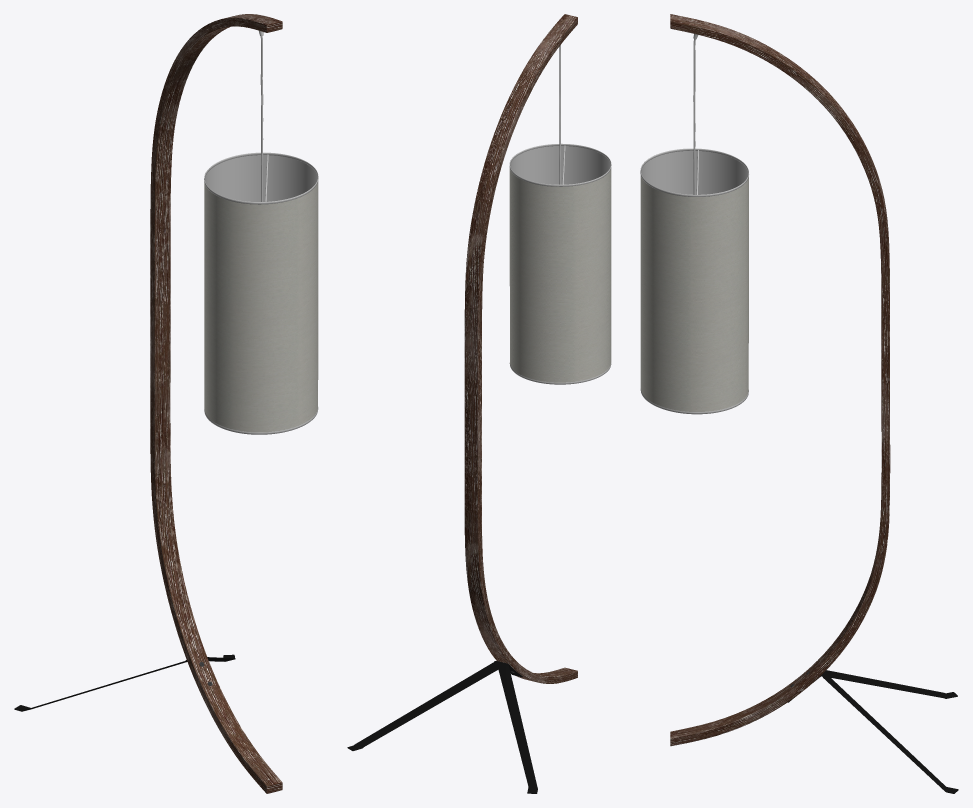
File: floor_lamp.glb
The picture shows the model from 3 angles, left to right: view 1: azimuth 30°, elevation 25°; view 2: azimuth 150°, elevation 25°; view 3: azimuth 270°, elevation 25°; orthographic projection. The views are drawn at different scales.
Visible parts, largest first — view 1: Tref035_LampShadeNew004_B_01_WhiteFabric_0, Tref035_MainBody_A_28_RetroDarkOak_0, Tref035_Base_D_21_BlackMetallicBase_0; view 2: Tref035_LampShadeNew004_B_01_WhiteFabric_0, Tref035_MainBody_A_28_RetroDarkOak_0, Tref035_Base_D_21_BlackMetallicBase_0; view 3: Tref035_LampShadeNew004_B_01_WhiteFabric_0, Tref035_MainBody_A_28_RetroDarkOak_0, Tref035_Base_D_21_BlackMetallicBase_0.
Part boxes in pixels (x1=…): Tref035_LampShadeNew004_B_01_WhiteFabric_0: x1=204, y1=181, x2=318, y2=432; Tref035_MainBody_A_28_RetroDarkOak_0: x1=150, y1=14, x2=282, y2=793; Tref035_Base_D_21_BlackMetallicBase_0: x1=14, y1=30, x2=318, y2=711; Tref035_LampShadeNew004_B_01_WhiteFabric_0: x1=509, y1=168, x2=611, y2=382; Tref035_MainBody_A_28_RetroDarkOak_0: x1=464, y1=14, x2=577, y2=683; Tref035_Base_D_21_BlackMetallicBase_0: x1=347, y1=45, x2=611, y2=793; Tref035_LampShadeNew004_B_01_WhiteFabric_0: x1=640, y1=175, x2=748, y2=411; Tref035_MainBody_A_28_RetroDarkOak_0: x1=670, y1=14, x2=890, y2=746; Tref035_Base_D_21_BlackMetallicBase_0: x1=640, y1=34, x2=958, y2=793.
Size of the model in its own units: 0.5484 by 1.83 by 0.7271.
Materials: 4 (4 with a texture image).
